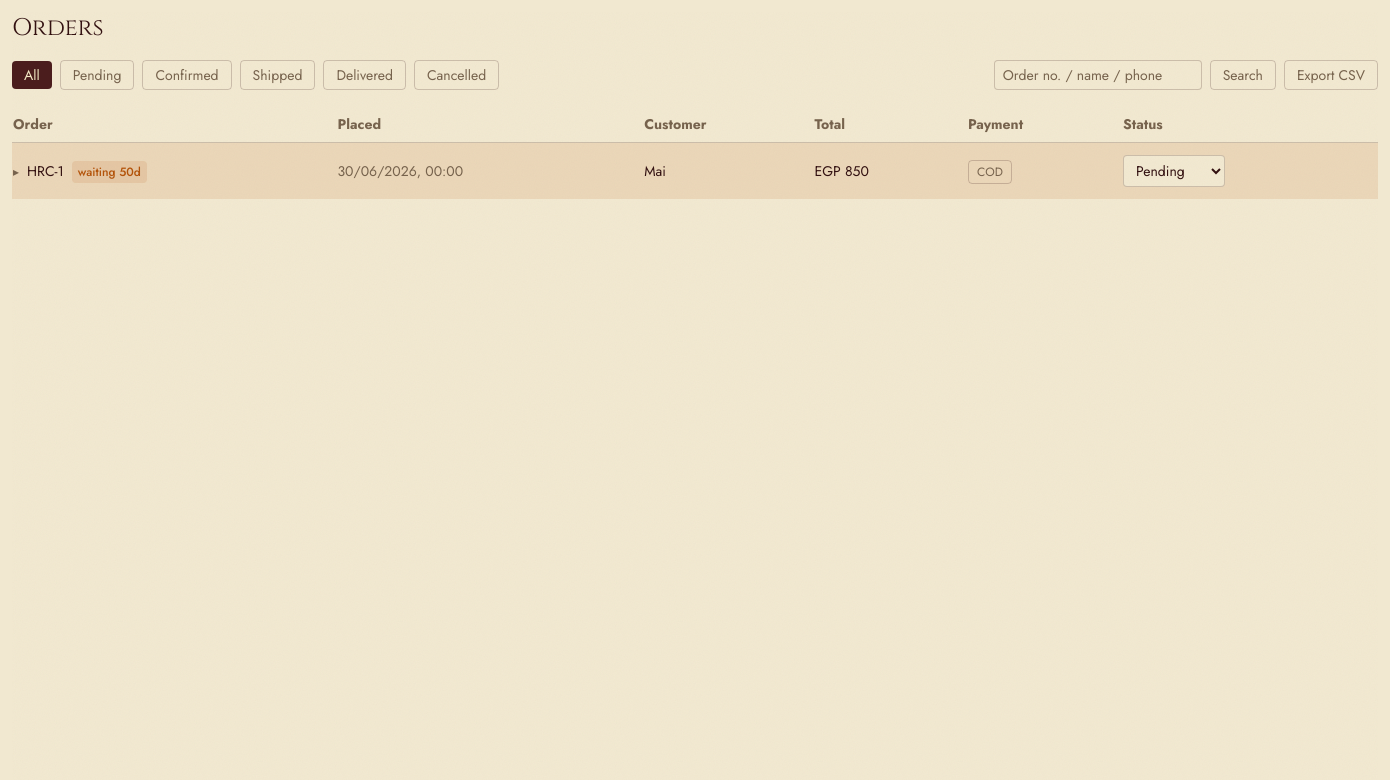
Test case: AdminOrders › surfaces a validation error instead of saving a bad phone
Expected: the text "HRC-1" is shown, [27, 161, 64, 181]
Click the text "HRC-1".
click(45, 171)  # box [12, 142, 336, 199]
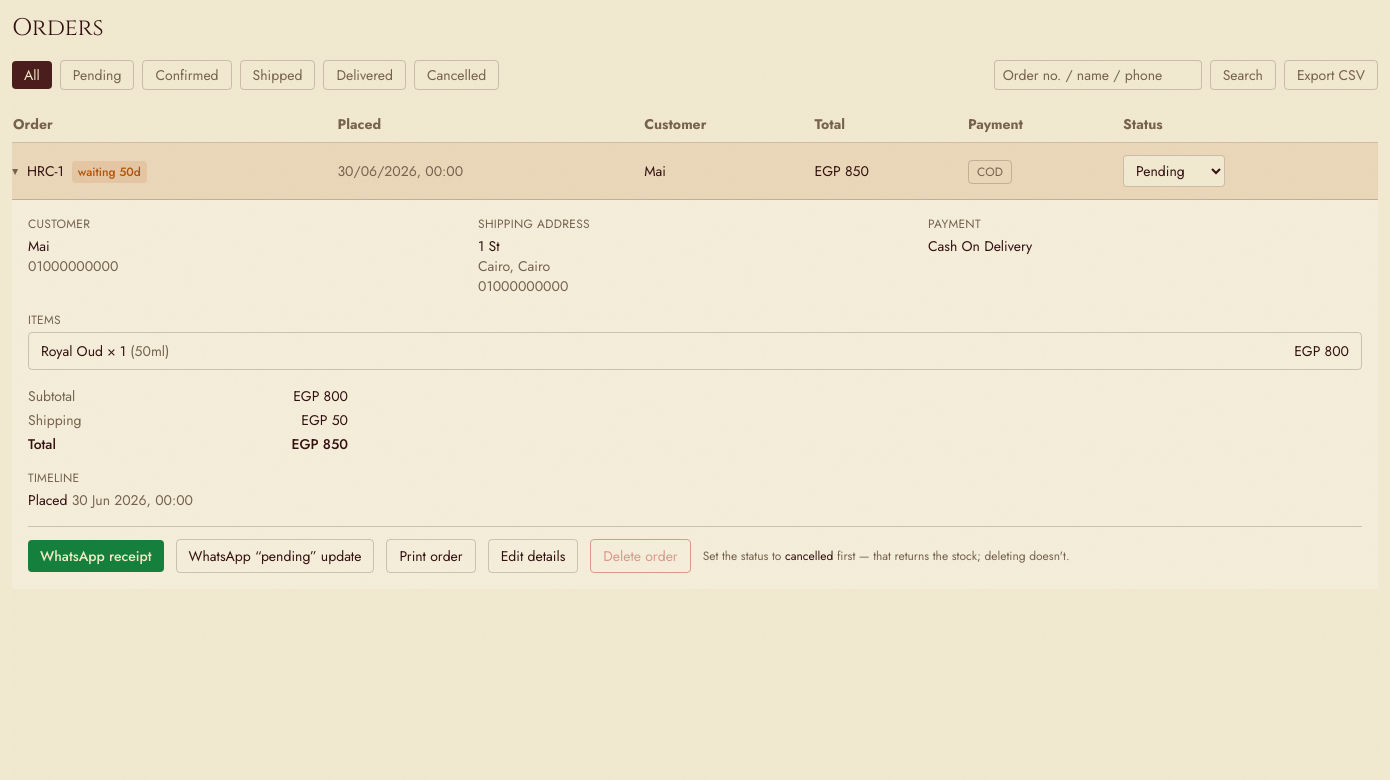
Click the button "Edit details".
click(533, 556)  # box [488, 539, 578, 573]
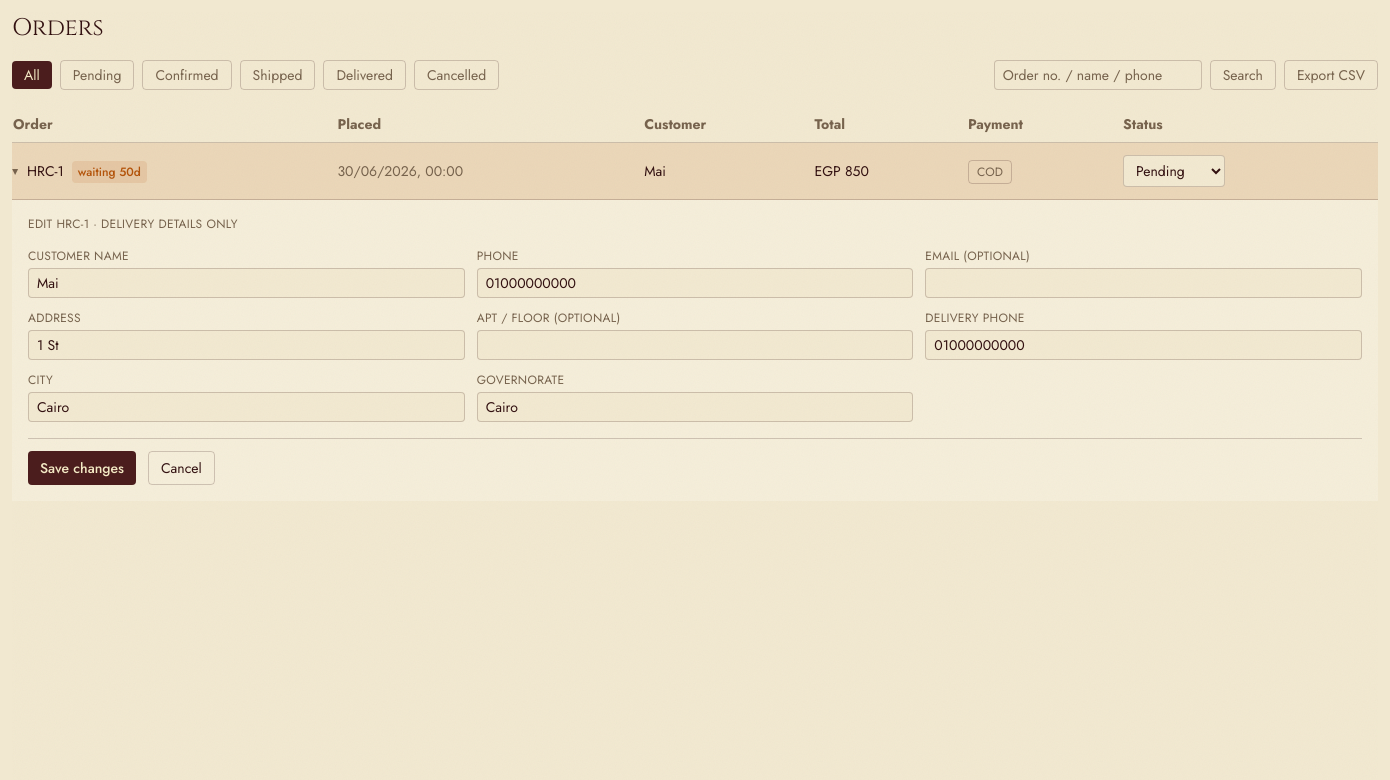
Replace the text in the field labelled "Phone" with "12345" at (695, 283), box [477, 268, 913, 298]
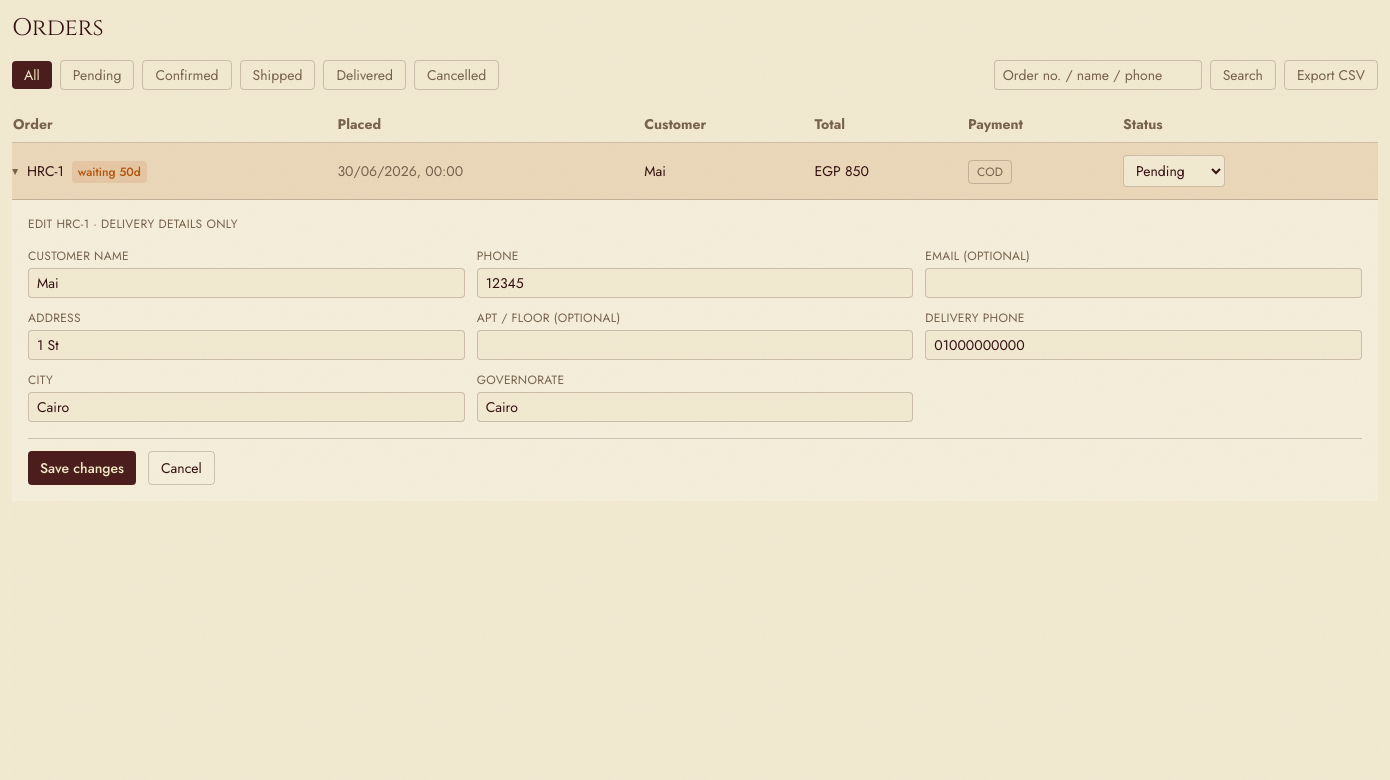
Click the button "Save changes".
click(82, 468)  # box [28, 451, 136, 485]
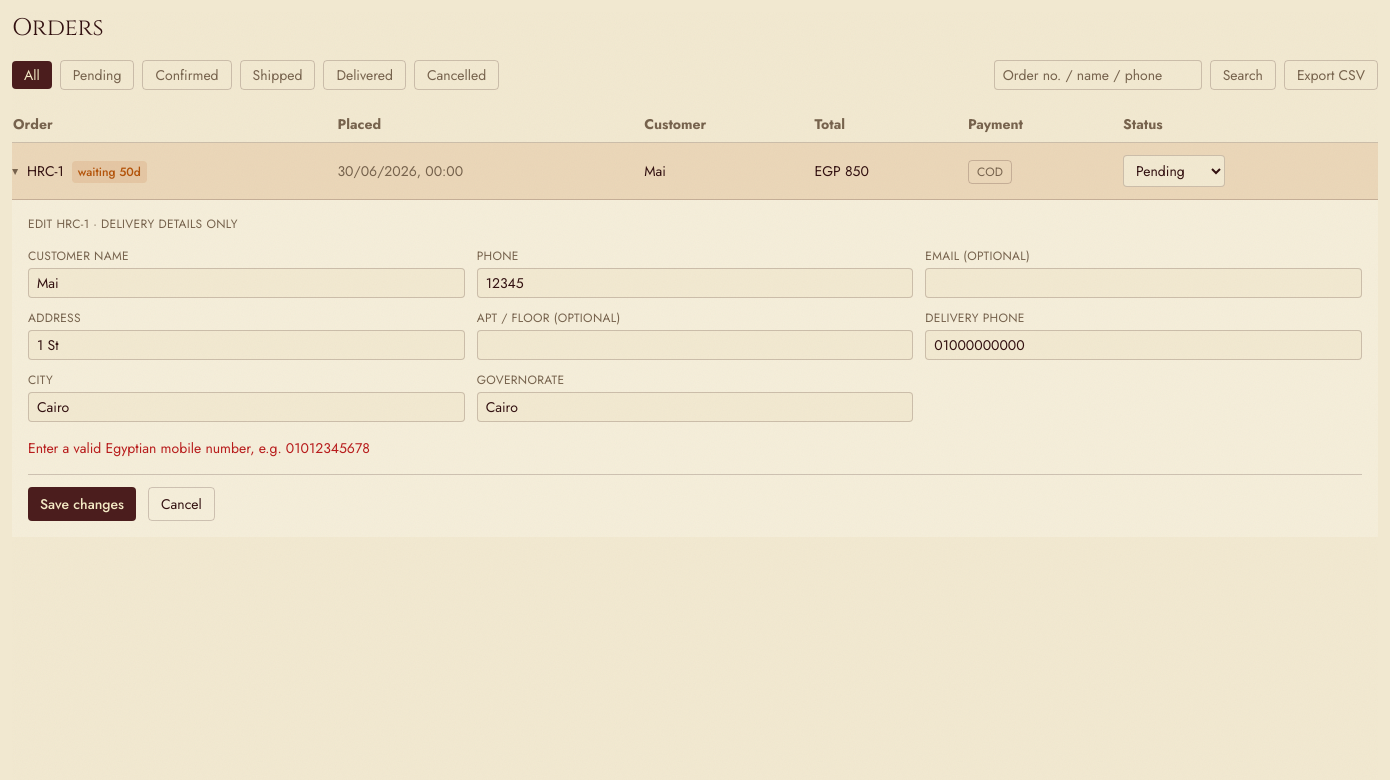
Expected: the text "Enter a valid Egyptian mobile number, e.g. 01012345678" is shown, [28, 438, 370, 458]
